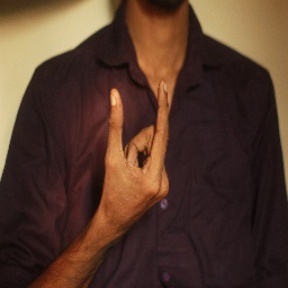U: (89, 75, 181, 220)
